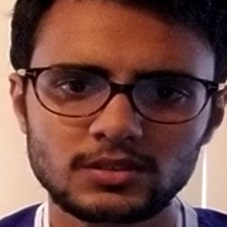awake: (44, 50, 204, 194)
